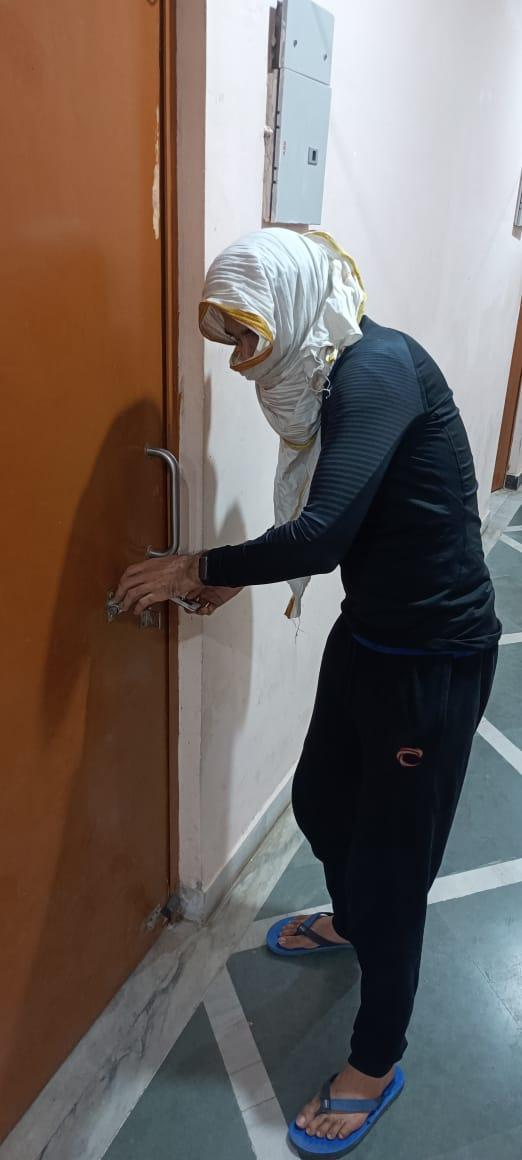suspicion: (107, 180, 483, 1160), (170, 200, 445, 1160)
